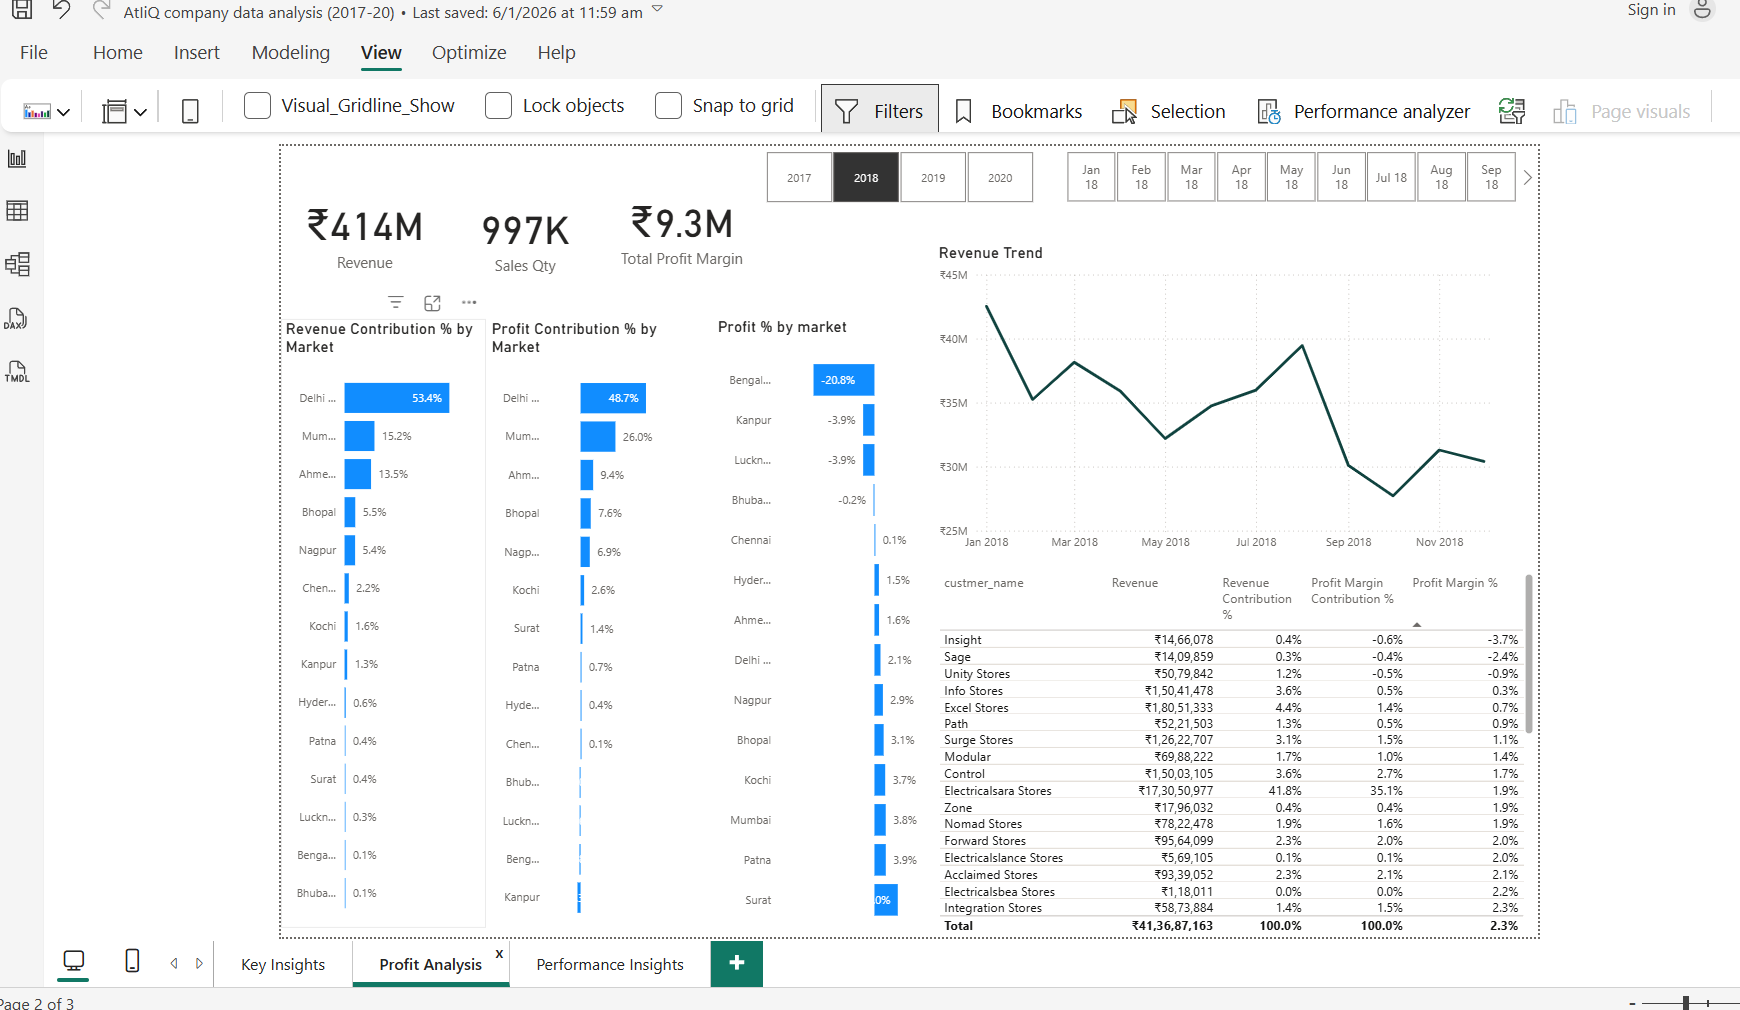

The page's visual inventory and layout, read from the dashboard file:
{"tool":"powerbi","page":{"name":"Profit Analysis","canvas":[1350,850],"ordinal":1},"visuals":[{"type":"card","fields":{"Values":["BaseMeasures (2).Revenue"]},"box":[0,0,179.6,184.8],"z":0},{"type":"card","fields":{"Values":["BaseMeasures (2).Sales Qty"]},"box":[179.6,0,164.1,193],"z":1000},{"type":"barChart","title":"Profit % by market","fields":{"Y":["BaseMeasures (2).Profit Margin %"],"Category":["sales markets.markets_name"]},"box":[464.5,184.8,230.2,664.8],"z":2000},{"type":"barChart","title":"Profit Contribution % by Market","fields":{"Y":["BaseMeasures (2).Profit Margin Contribution %"],"Category":["sales markets.markets_name"]},"box":[221.9,185.8,208.5,659.6],"z":3000},{"type":"slicer","fields":{"Values":["sales date.year"]},"box":[495.7,0,335.7,67.1],"z":4000},{"type":"slicer","fields":{"Values":["sales date.cy_date"]},"box":[818.6,0,531.7,66.5],"z":5000},{"type":"tableEx","title":"Top 5 Customers","fields":{"Values":["sales customers.custmer_name","BaseMeasures (2).Revenue","BaseMeasures (2).Revenue Contribution %","BaseMeasures (2).Profit Margin Contribution %","BaseMeasures (2).Profit Margin %"]},"box":[701.9,454.2,648.3,395.4],"z":6000},{"type":"lineChart","title":"Revenue Trend","fields":{"Y":["BaseMeasures (2).Revenue"],"Category":["sales date.cy_date"]},"box":[701.9,104.3,621.4,338.6],"z":7000},{"type":"card","fields":{"Values":["BaseMeasures (2).Total Profit Margin"]},"box":[349.9,0,161,176.5],"z":8000},{"type":"barChart","title":"Revenue Contribution % by Market","fields":{"Y":["BaseMeasures (2).Revenue Contribution %"],"Category":["sales markets.markets_name"]},"box":[0,185.8,219.9,654.5],"z":9000}]}

Visuals, with their boxes on the page's 1350x850 design canvas (x1, y1, x2, y2). These are canvas units, not pixel positions in the 1740x1010 screenshot, which may show the page scaled, cropped or inside an application window:
card - BaseMeasures (2).Revenue: [x1=0, y1=0, x2=180, y2=185]
card - BaseMeasures (2).Sales Qty: [x1=180, y1=0, x2=344, y2=193]
"Profit % by market" barChart: [x1=464, y1=185, x2=695, y2=850]
"Profit Contribution % by Market" barChart: [x1=222, y1=186, x2=430, y2=845]
slicer - sales date.year: [x1=496, y1=0, x2=831, y2=67]
slicer - sales date.cy_date: [x1=819, y1=0, x2=1350, y2=66]
"Top 5 Customers" tableEx: [x1=702, y1=454, x2=1350, y2=850]
"Revenue Trend" lineChart: [x1=702, y1=104, x2=1323, y2=443]
card - BaseMeasures (2).Total Profit Margin: [x1=350, y1=0, x2=511, y2=176]
"Revenue Contribution % by Market" barChart: [x1=0, y1=186, x2=220, y2=840]
